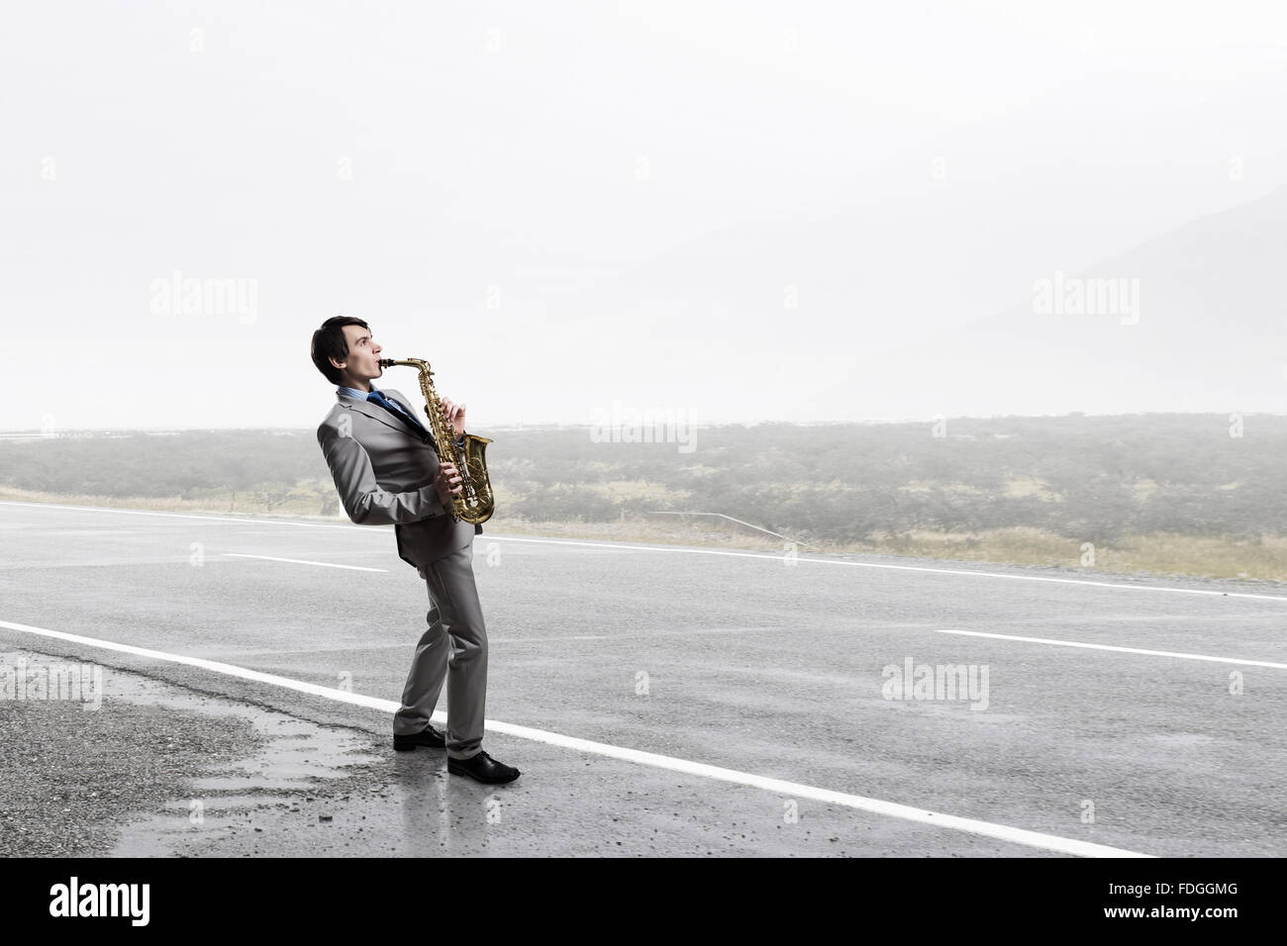Person: (300, 312, 532, 790)
